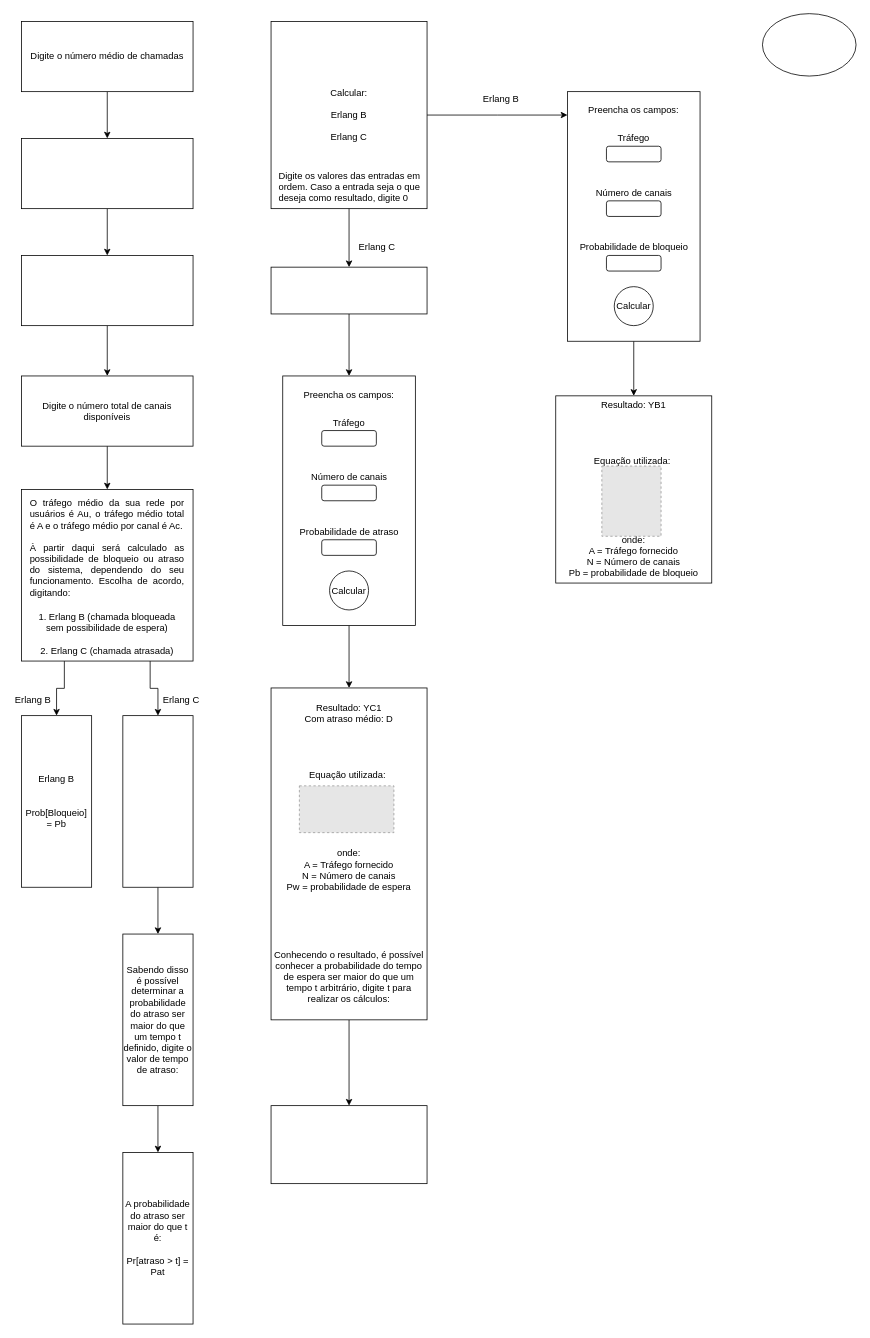
The diagram is 870 pixels wide and 1338 high, and some of its shapes have lost their labels. Grey dashed boxes stand in for pictures. Each missing label, with the centre of its shape:
A probabilidade do atraso ser maior do que t = t0 é de: YC2: the point at 348,1144
Digite a duração média das chamadas: the point at 107,173
Digite o número total de usuários: the point at 107,290
Digite o tempo médio de duração de chamada: the point at 348,290
Erlang C Prob[Atraso > 0] = Pa Com atraso médio = D: the point at 157,801
MATRIZ TABELAS: the point at 809,44
